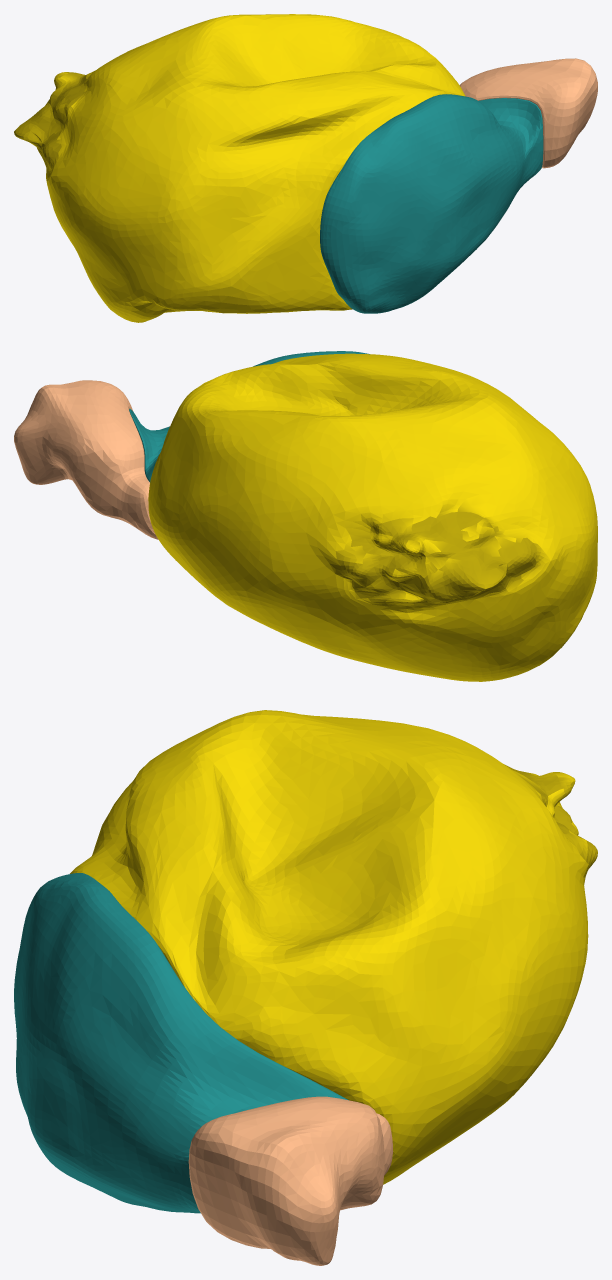
File: CS08-All Models Solidified-03-22-2016.fbx
3 renders of one model, top to bottom at view 1: azimuth 30°, elevation 25°; view 2: azimuth 150°, elevation 25°; view 3: azimuth 270°, elevation 25°, orthographic. The views are drawn at different scales.
Parts seen in each view (by area): view 1: Yolk sac wall, Amnion wall, Connecting stalk; view 2: Yolk sac wall, Connecting stalk, Amnion wall; view 3: Yolk sac wall, Amnion wall, Connecting stalk.
Boxes of the visible parts, <box> form: Yolk sac wall: <box>14,14,465,322</box>; Amnion wall: <box>320,94,543,313</box>; Connecting stalk: <box>459,58,597,168</box>; Yolk sac wall: <box>148,353,597,681</box>; Connecting stalk: <box>14,380,158,539</box>; Amnion wall: <box>129,351,369,482</box>; Yolk sac wall: <box>70,710,597,1184</box>; Amnion wall: <box>14,873,348,1213</box>; Connecting stalk: <box>188,1096,393,1265</box>.
Size of the model in its own units: 29.59 by 18.42 by 13.45.
